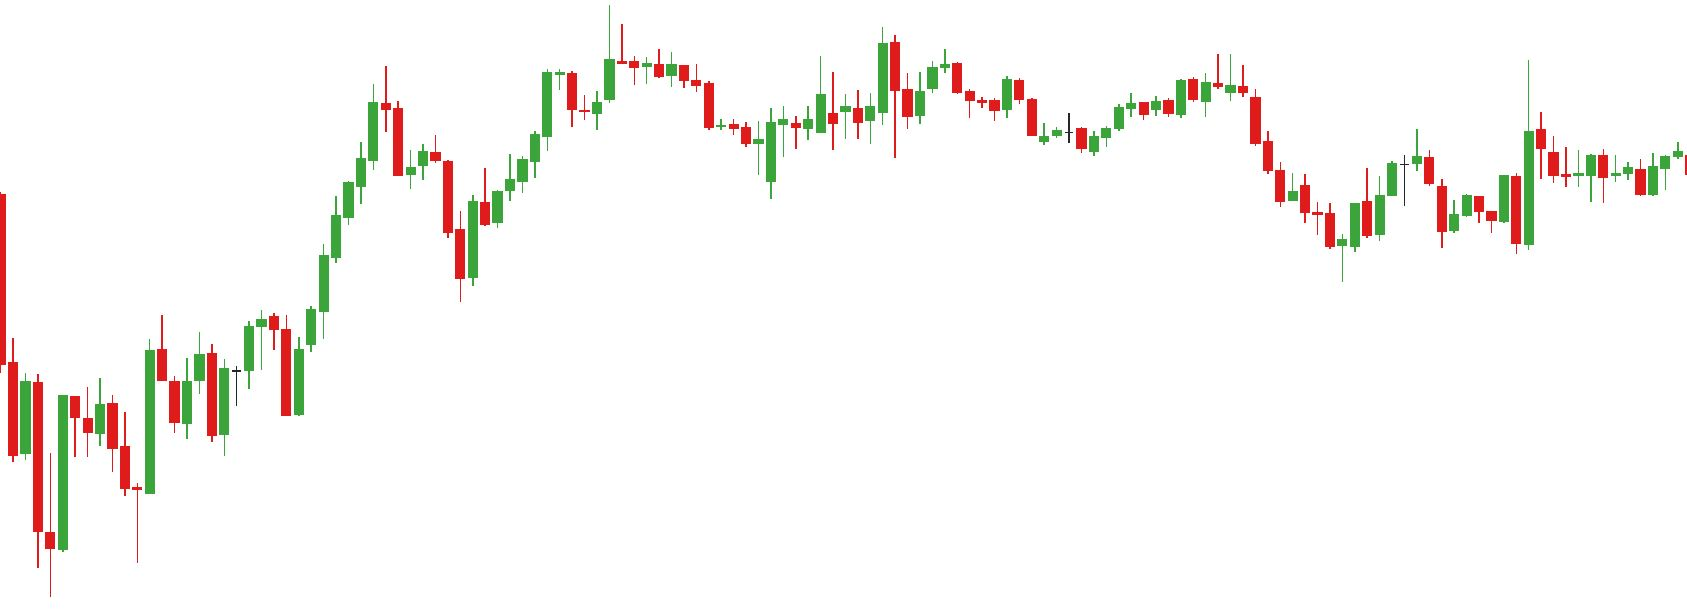sell: (812, 27, 901, 129)
